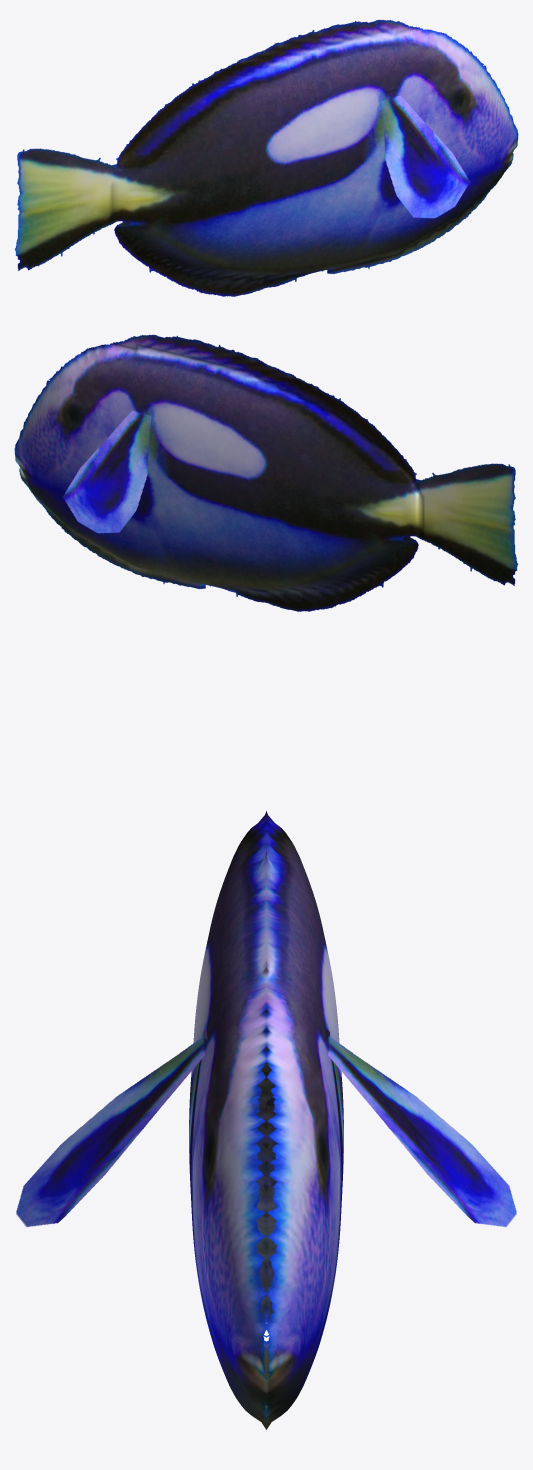
File: species-btang-photo.glb
3 renders of one model, top to bottom at view 1: azimuth 30°, elevation 25°; view 2: azimuth 150°, elevation 25°; view 3: azimuth 270°, elevation 25°, orthographic. The views are drawn at different scales.
Parts seen in each view (by area): view 1: btang; view 2: btang; view 3: btang.
Part boxes in pixels (<box>): btang: <box>15,19,518,296</box>; btang: <box>14,334,517,611</box>; btang: <box>16,811,516,1429</box>.
Bounding box in the file's own units: 0.1406 × 0.0677 × 0.0606.
1 material, 1 textured.
